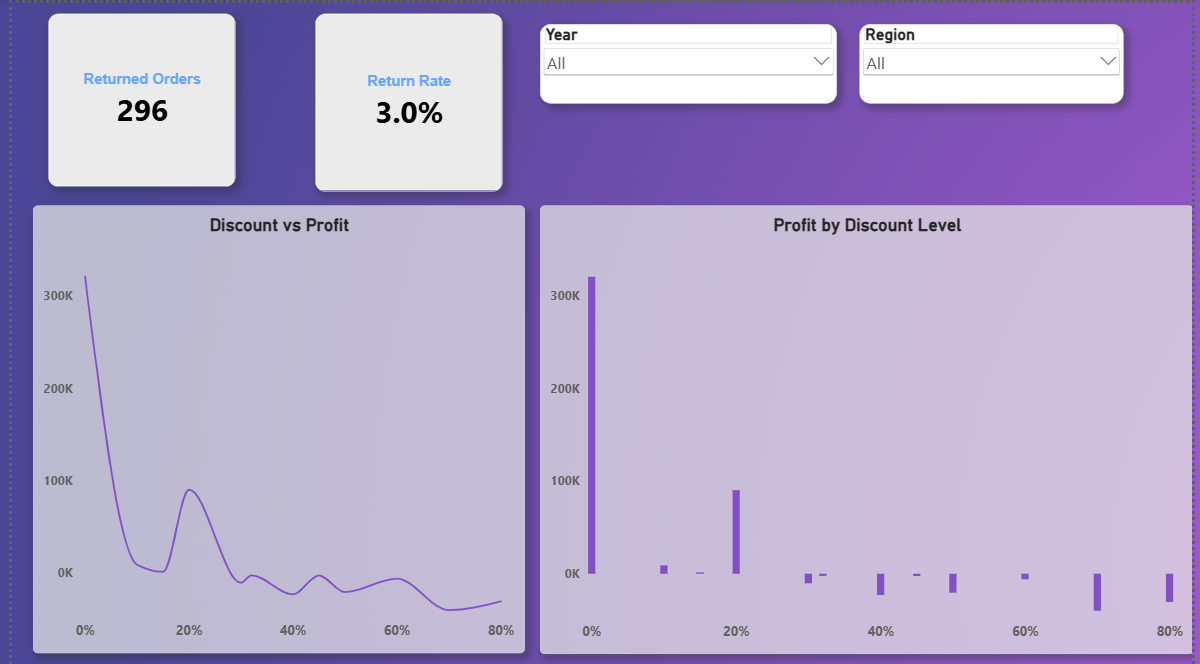

The page's visual inventory and layout, read from the dashboard file:
{"tool":"powerbi","page":{"name":"Discount & Return Analysis","canvas":[1920,1080],"ordinal":2},"visuals":[{"type":"lineChart","title":"Discount vs Profit","fields":{"Category":["Orders.Discount"],"Y":["Measures (2).Total_Profit"]},"box":[33.3,328.2,800,728.2],"z":0},{"type":"cardVisual","fields":{"Data":["Measures (2).Returned_Orders"]},"box":[59,17.9,305.1,282.1],"z":1000},{"type":"clusteredColumnChart","title":"Profit by Discount Level","fields":{"Category":["Orders.Discount"],"Y":["Measures (2).Total_Profit"]},"box":[858.5,329.3,1063.4,729.3],"z":2000},{"type":"cardVisual","fields":{"Data":["Measures (2).Return_Rate"]},"box":[492.3,17.9,305.1,289.7],"z":3000},{"type":"slicer","fields":{"Values":["Orders.Year"]},"box":[858.5,34.1,482.9,129.3],"z":4000},{"type":"slicer","fields":{"Values":["Orders.Region"]},"box":[1378,34.1,429.3,129.3],"z":5000}]}

Visuals, with their boxes in screenshot pixels (x1, y1, x2, y2), scaled from the page's 1920x1080 canvas onto the 1200x664 screenshot:
"Discount vs Profit" lineChart: rect(21, 202, 521, 649)
cardVisual - Measures (2).Returned_Orders: rect(37, 11, 228, 184)
"Profit by Discount Level" clusteredColumnChart: rect(537, 202, 1199, 651)
cardVisual - Measures (2).Return_Rate: rect(308, 11, 498, 189)
slicer - Orders.Year: rect(537, 21, 838, 100)
slicer - Orders.Region: rect(861, 21, 1130, 100)
